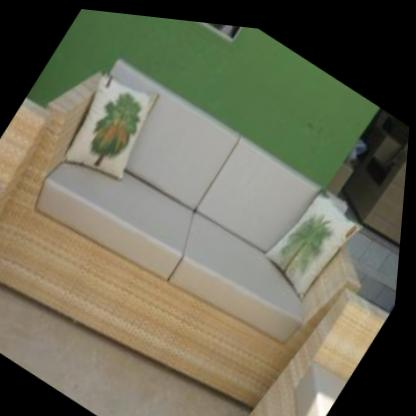Sofa: (0, 22, 410, 416)
